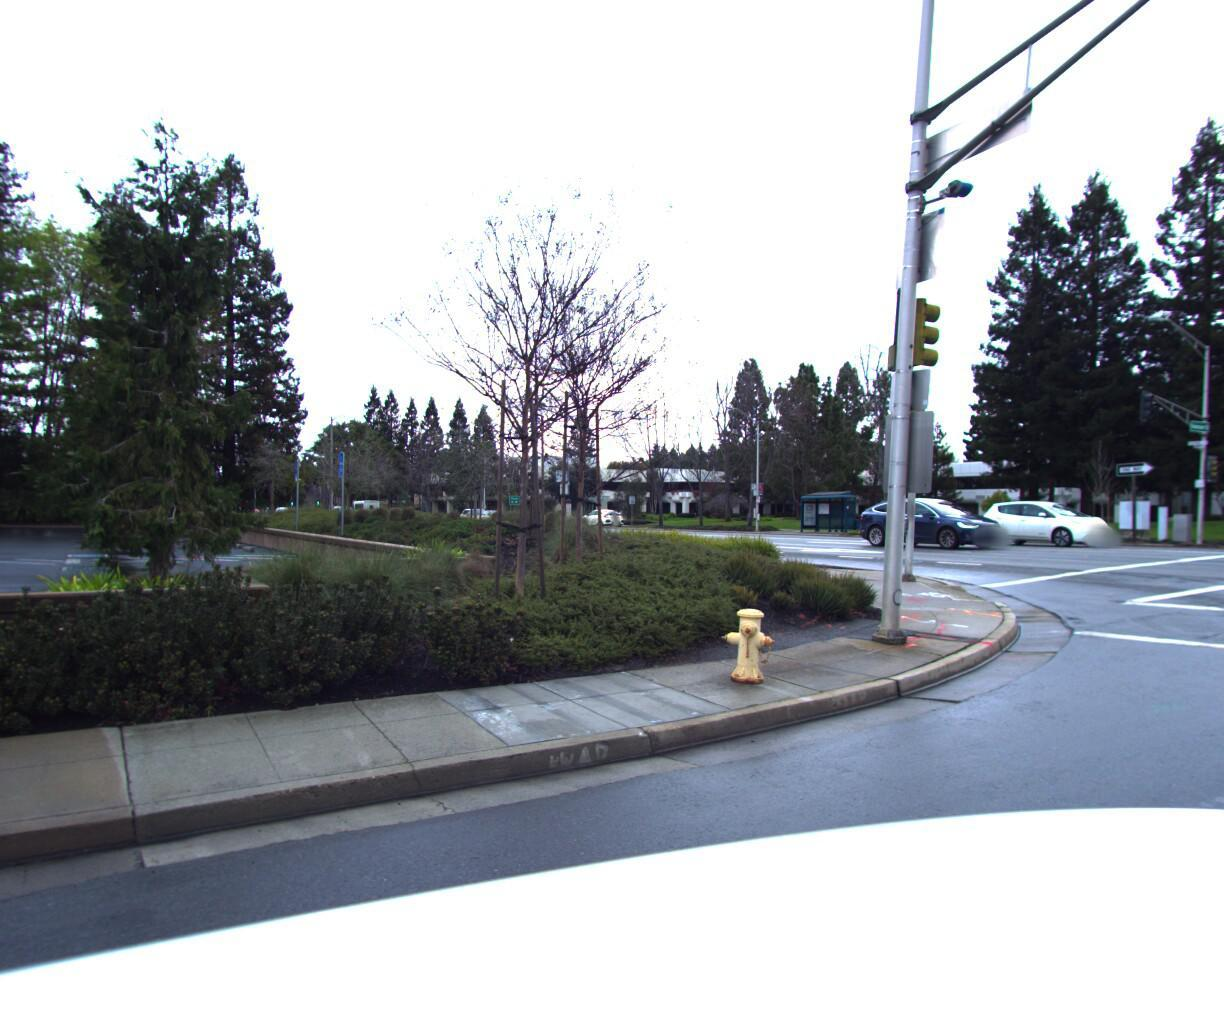car: (853, 498, 1007, 552), (977, 503, 1128, 554)
